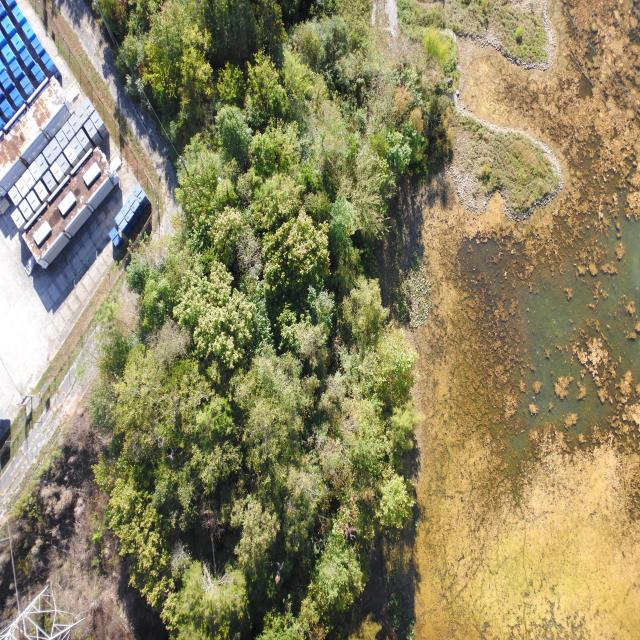Area of Interest: (109, 11, 452, 638)
